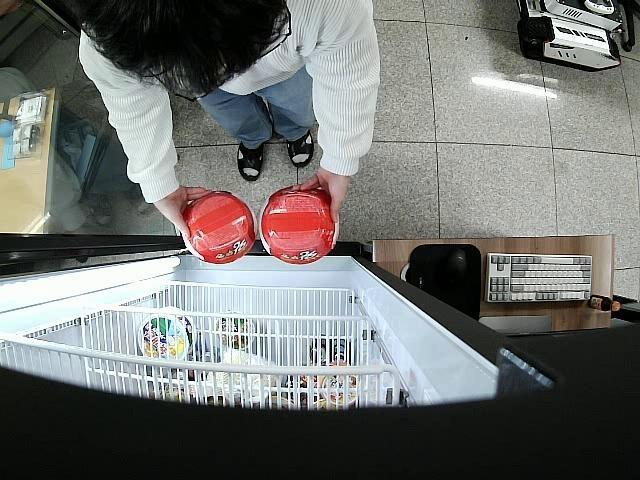10_wangTtukkeong: (259, 188, 340, 265), (184, 193, 256, 266)
